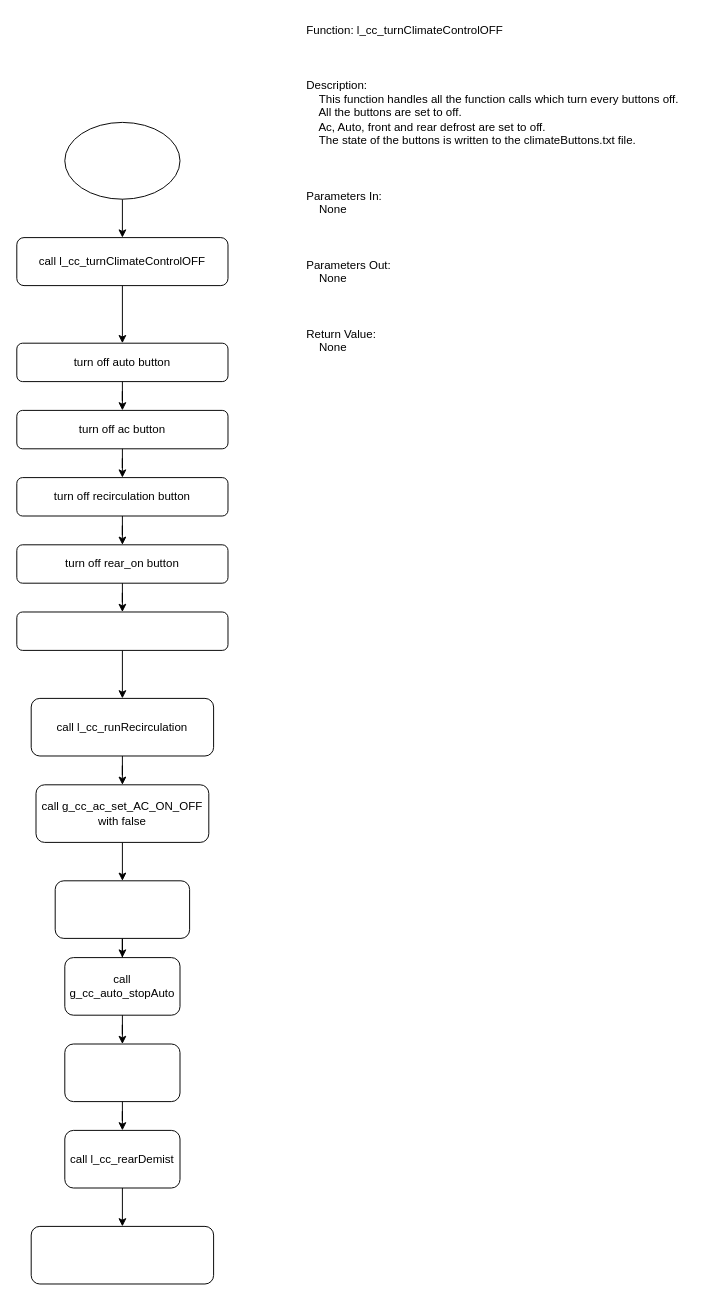
Some shapes in this 715 by 1301 pixel diagram are drawn without their labels. The shapes that lost their labels are listed below. From the top down, each one's centre as x and y in pixels, then its label:
At (x=122, y=630): "turn off front_on button".
At (x=122, y=909): "call g_cc_ac_stopAC".
At (x=122, y=1072): "call l_cc_frontDemist".
At (x=122, y=1254): "call g_bsw_buttons_writeState".
